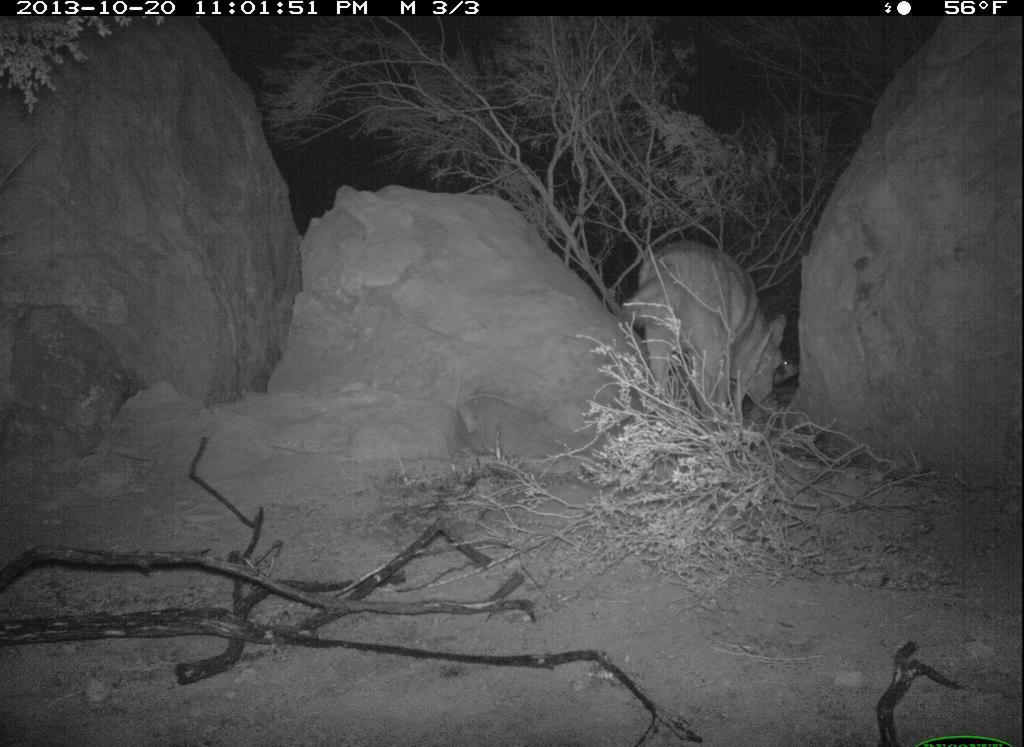badger: (774, 354, 806, 393)
coyote: (620, 238, 786, 439)
